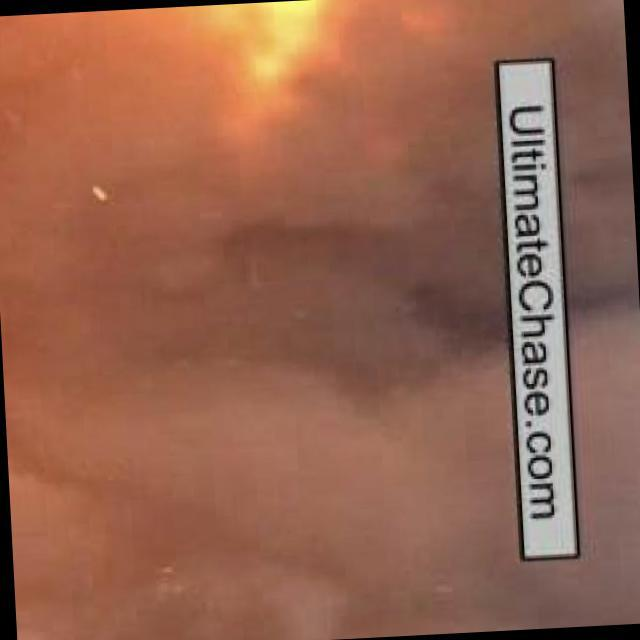Fire: (135, 1, 498, 238)
